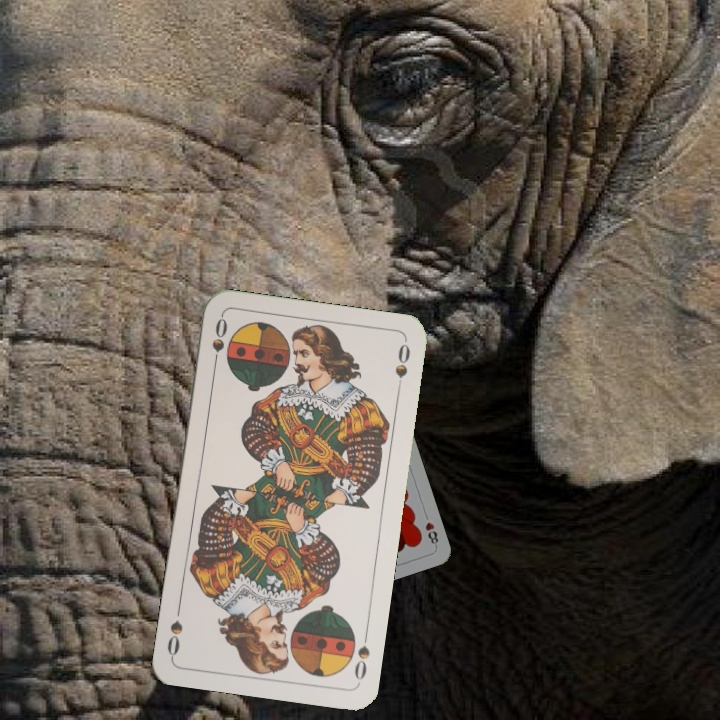H8: (421, 518, 441, 549)
SO: (208, 313, 230, 372), (350, 626, 372, 683)
